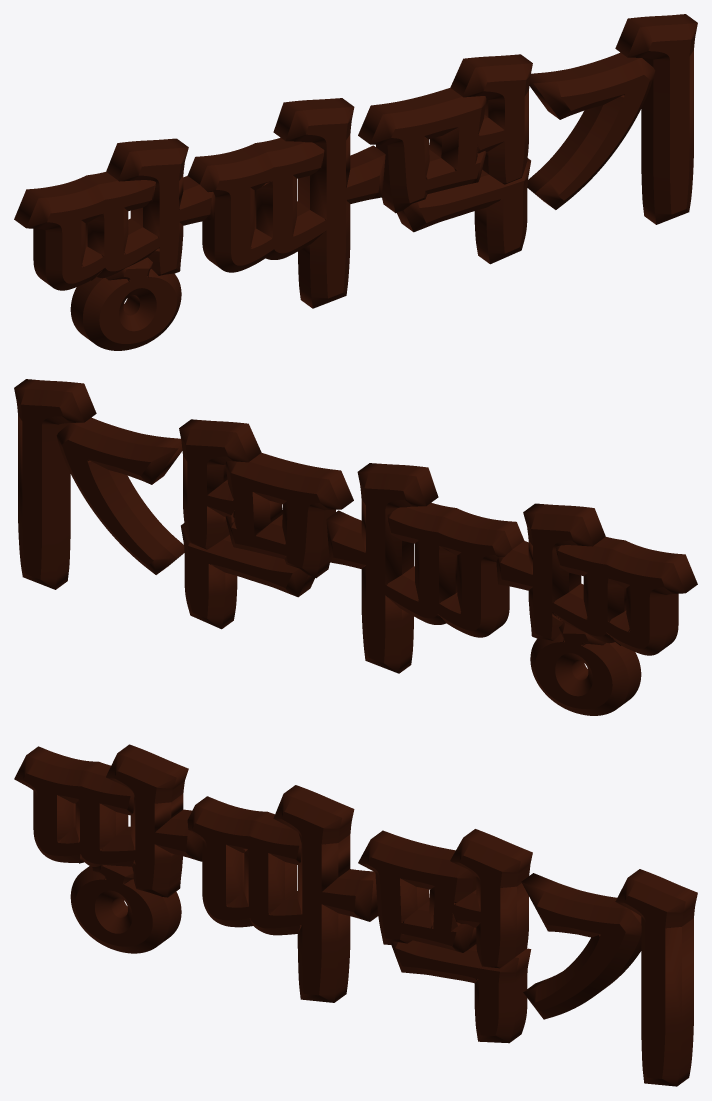
Rendered from title.obj.
3 views of the same model, one above another, from view 1: azimuth 30°, elevation 25°; view 2: azimuth 150°, elevation 25°; view 3: azimuth 330°, elevation 25° (orthographic).
Visible parts, largest first — view 1: Text_CUText; view 2: Text_CUText; view 3: Text_CUText.
Boxes of the visible parts, x1,y1,x2,y2 form: Text_CUText: [14, 14, 697, 350]; Text_CUText: [14, 379, 697, 715]; Text_CUText: [14, 744, 697, 1086].
Bounding box in the file's own units: 0.6394 × 0.1834 × 0.04.
